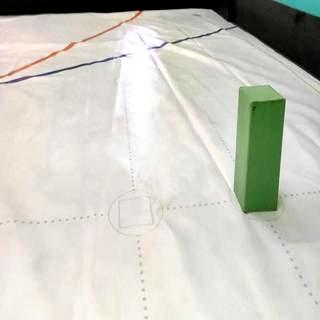greenbox: (232, 82, 287, 211)
